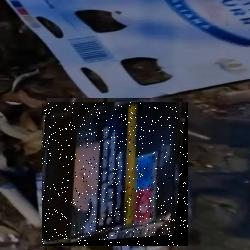restaffald: (42, 102, 188, 246)
